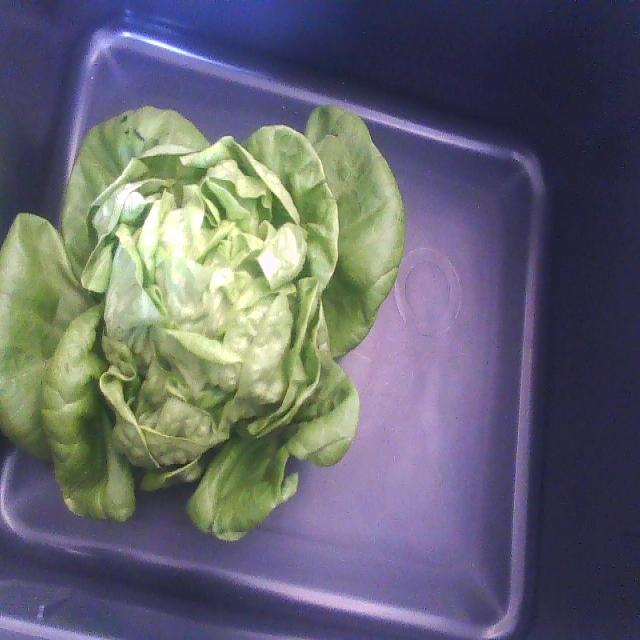lettuce: (0, 107, 403, 540)
